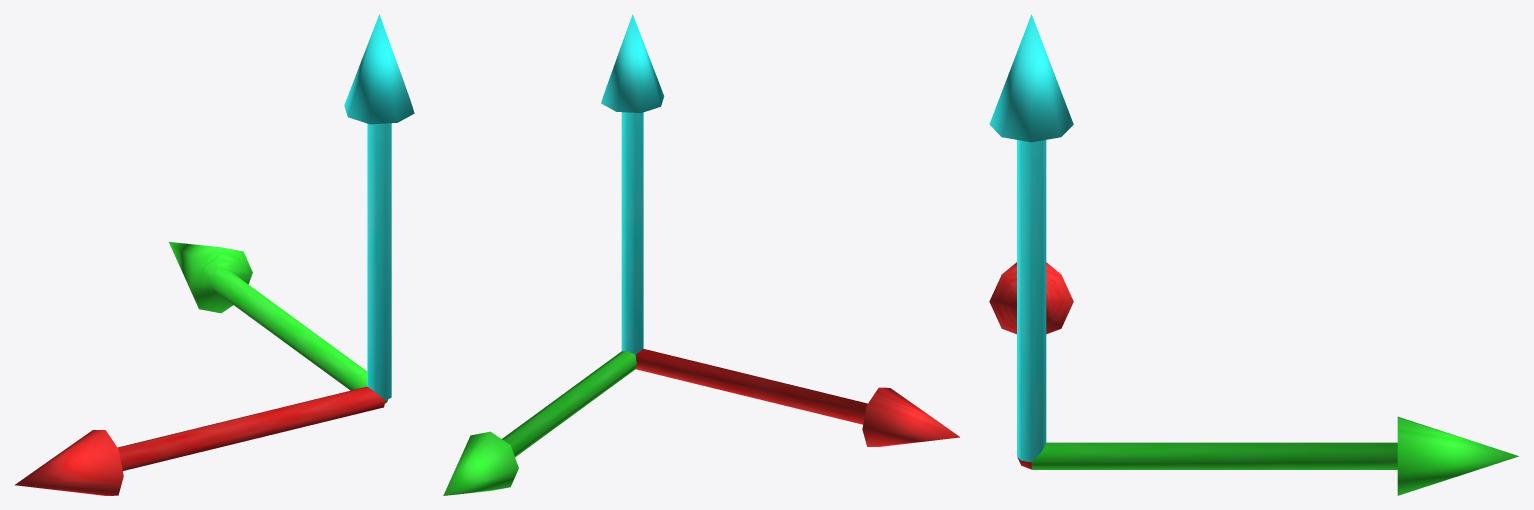
Rendered from Arrow_1m_002.FBX.
The picture shows the model from 3 angles, left to right: view 1: azimuth 30°, elevation 25°; view 2: azimuth 150°, elevation 25°; view 3: azimuth 270°, elevation 25°; orthographic projection. The views are drawn at different scales.
Visible parts, largest first — view 1: Arrow_1m_z, Arrow_1m_x, Arrow_1m_y; view 2: Arrow_1m_z, Arrow_1m_x, Arrow_1m_y; view 3: Arrow_1m_z, Arrow_1m_y, Arrow_1m_x.
Part boxes in pixels (x1,y1,x2,y2): Arrow_1m_z: (344, 14, 414, 400); Arrow_1m_x: (14, 386, 385, 495); Arrow_1m_y: (169, 242, 387, 403); Arrow_1m_z: (601, 14, 664, 354); Arrow_1m_x: (635, 349, 959, 446); Arrow_1m_y: (443, 351, 636, 495); Arrow_1m_z: (989, 14, 1073, 462); Arrow_1m_y: (1031, 417, 1518, 495); Arrow_1m_x: (989, 262, 1073, 469).
Bounding box in the file's own units: 109 × 109 × 109.
1 material, 1 textured.
